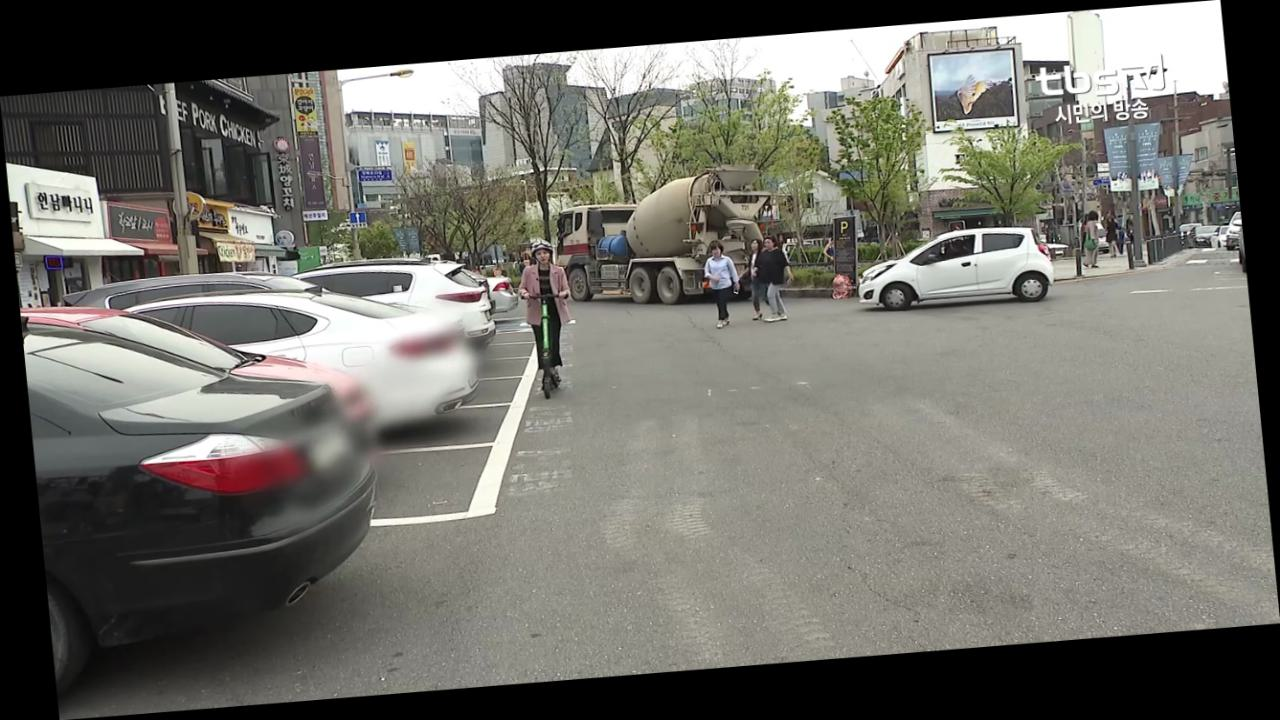helmet: (509, 235, 586, 401)
